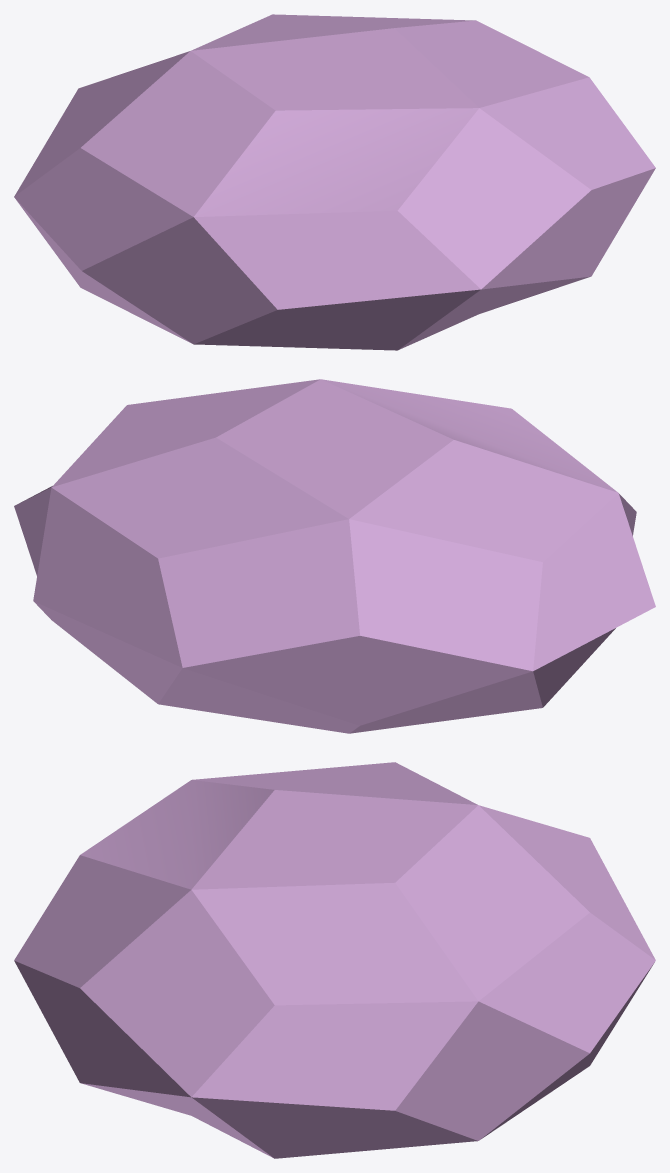
Rendered from bush pink.fbx.
3 views of the same model, one above another, from view 1: azimuth 30°, elevation 25°; view 2: azimuth 150°, elevation 25°; view 3: azimuth 270°, elevation 25° (orthographic). The views are drawn at different scales.
Parts seen in each view (by area): view 1: polySurface16; view 2: polySurface16; view 3: polySurface16.
Part boxes in pixels (x1=…): polySurface16: x1=14, y1=14, x2=655, y2=350; polySurface16: x1=14, y1=379, x2=655, y2=733; polySurface16: x1=14, y1=762, x2=655, y2=1158.
Bounding box in the file's own units: 330 × 127 × 298.
